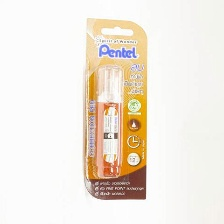book: (81, 16, 149, 201)
correction_fluid: (92, 63, 121, 179)
